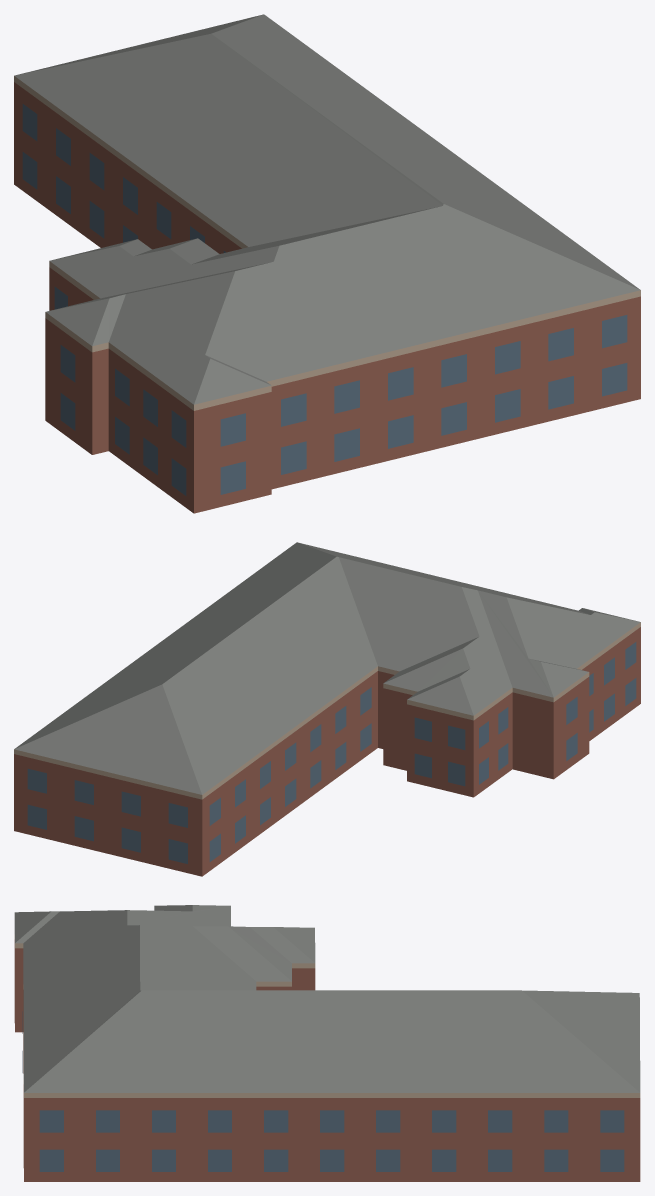
Rendered from dc-au-clark-hall.glb.
The picture shows the model from 3 angles, top to bottom: view 1: azimuth 30°, elevation 25°; view 2: azimuth 150°, elevation 25°; view 3: azimuth 270°, elevation 25°; orthographic projection. The views are drawn at different scales.
Parts seen in each view (by area): view 1: Clark Hall; view 2: Clark Hall; view 3: Clark Hall.
Part boxes in pixels (x1,y1,x2,y2): Clark Hall: (14,14,640,513); Clark Hall: (14,542,640,876); Clark Hall: (14,905,640,1181).
Bounding box in the file's own units: 25.33 × 8.9 × 35.74.
